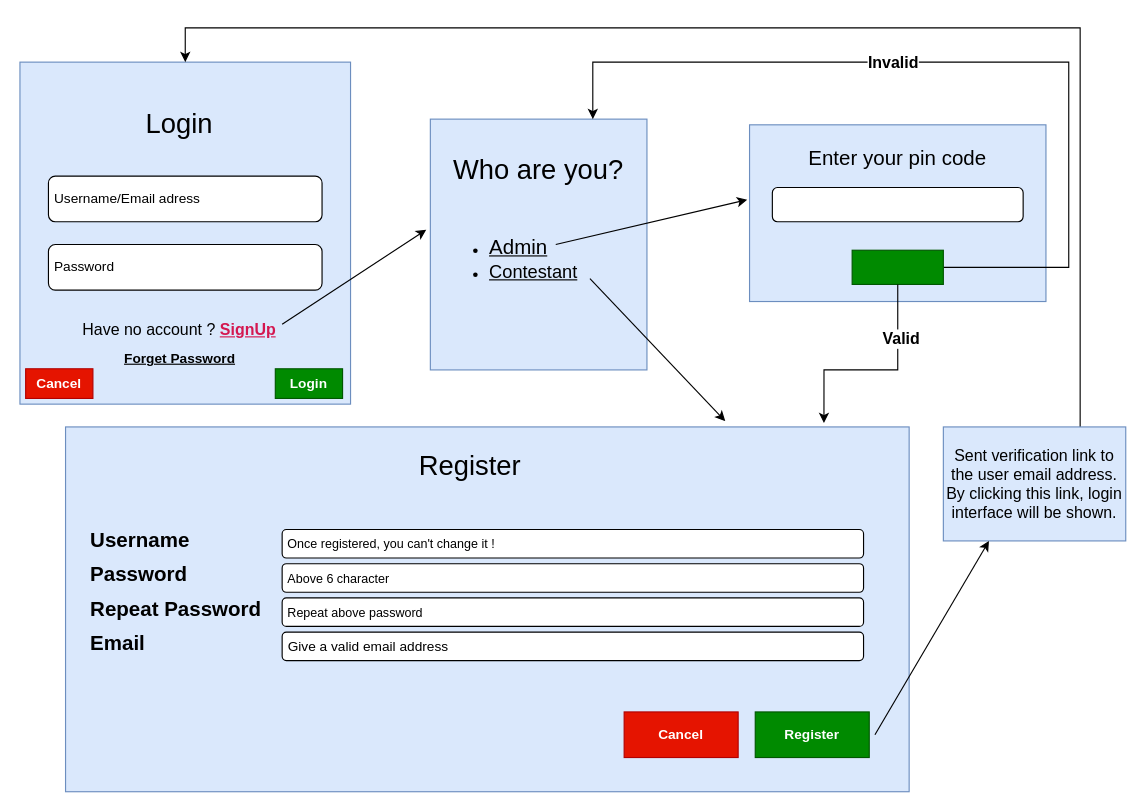
The diagram is 1146 pixels wide and 812 high, and some of its shapes have lost their labels. The box of each missing label's shape, as (x1, y1, x2, y2) in pixels:
Pin code: (771, 186, 1023, 222)
Submit: (851, 249, 943, 284)
